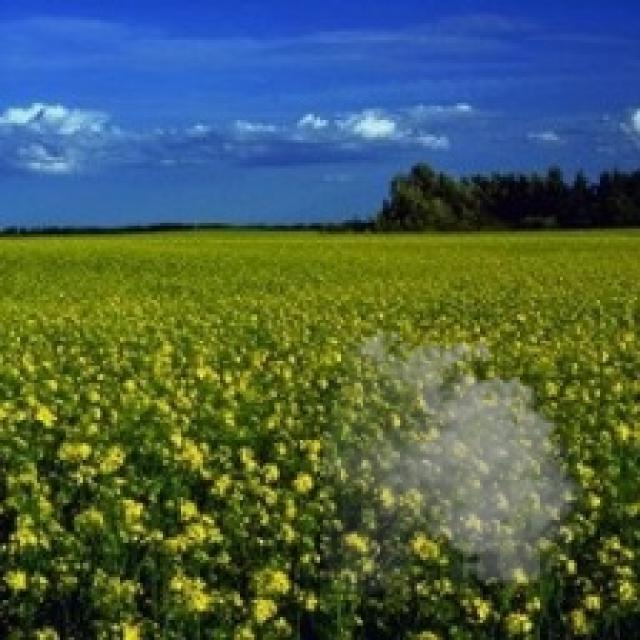Smoke: (323, 323, 594, 594)
